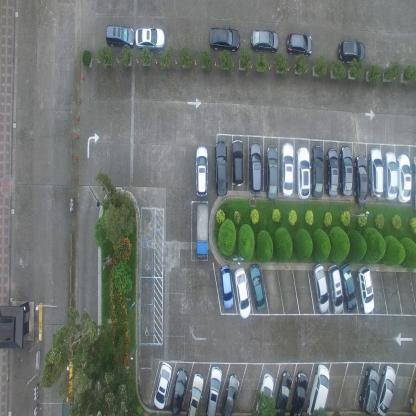car: (306, 363, 330, 415), (357, 366, 379, 415), (375, 364, 396, 415), (311, 261, 329, 313), (153, 361, 172, 410), (213, 139, 228, 198), (289, 372, 309, 416), (255, 372, 275, 416), (280, 140, 295, 198), (205, 364, 222, 415), (367, 148, 384, 198), (357, 265, 374, 315), (220, 373, 240, 415), (185, 372, 204, 416), (170, 366, 187, 415), (208, 25, 240, 51), (234, 266, 250, 318), (327, 263, 343, 315), (310, 142, 324, 200), (295, 145, 310, 199), (194, 144, 209, 198), (247, 141, 262, 195), (339, 144, 354, 198), (274, 370, 292, 415), (340, 262, 356, 312), (249, 262, 266, 309), (195, 202, 209, 258), (338, 38, 366, 66), (105, 22, 135, 48), (250, 27, 280, 53), (353, 153, 368, 204), (265, 143, 278, 200), (134, 25, 166, 48), (218, 263, 234, 309), (286, 31, 313, 58), (325, 146, 339, 198), (396, 153, 410, 203), (230, 138, 243, 189), (384, 151, 397, 201), (408, 373, 416, 415), (411, 153, 416, 212)
